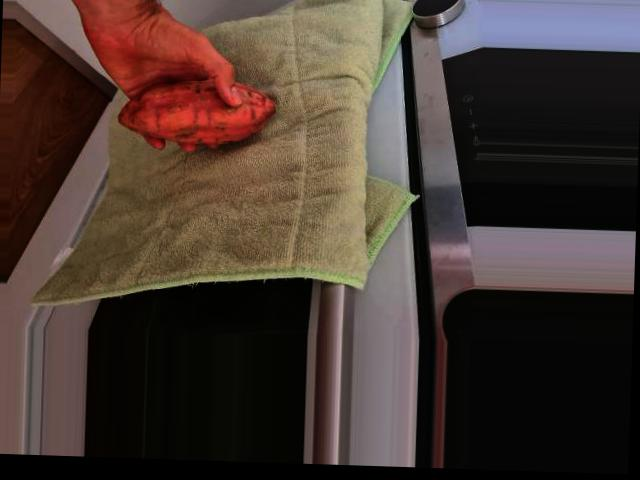sweet_potato: (114, 72, 273, 142)
